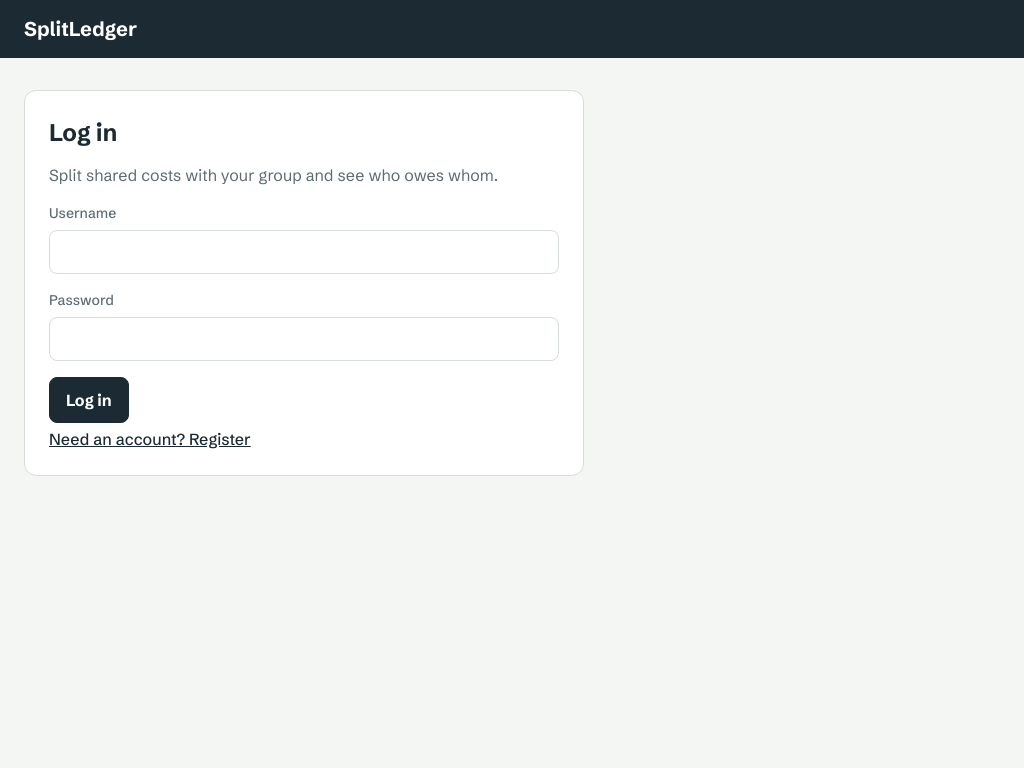
Test case: LoginPage › shows the validation message on 422
Click the button "Need an account? Register" at x=150, y=439, box [49,427,251,451]
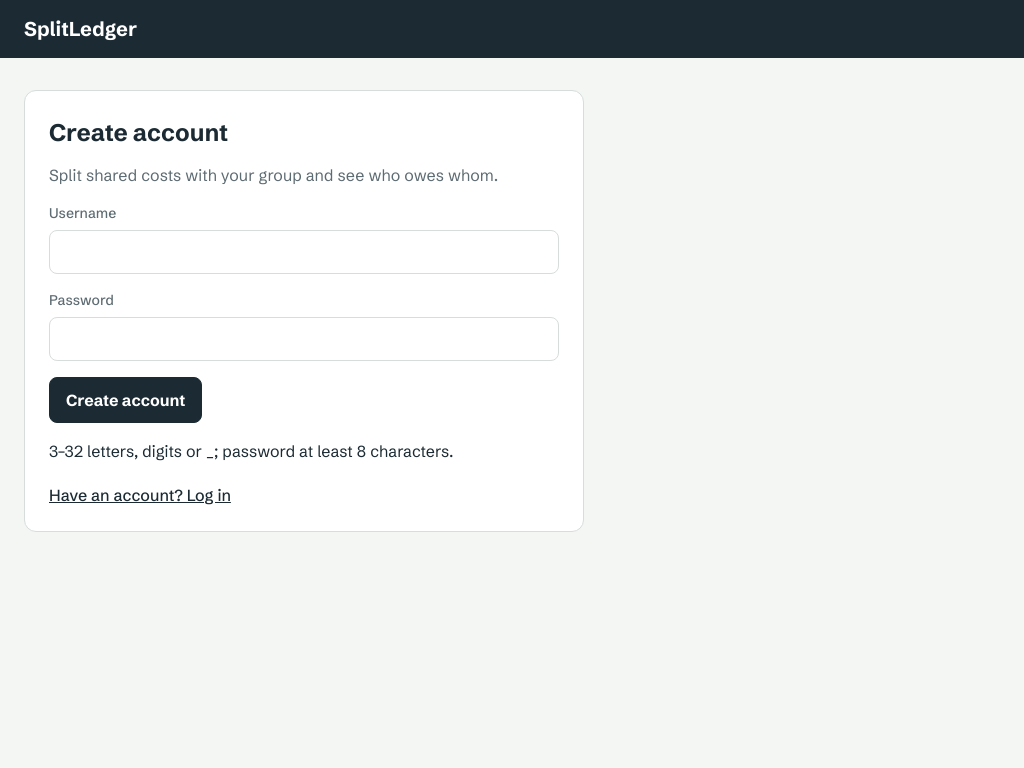
Type "alice" into the field labelled "Username" at x=304, y=252, box [49,230,559,274]
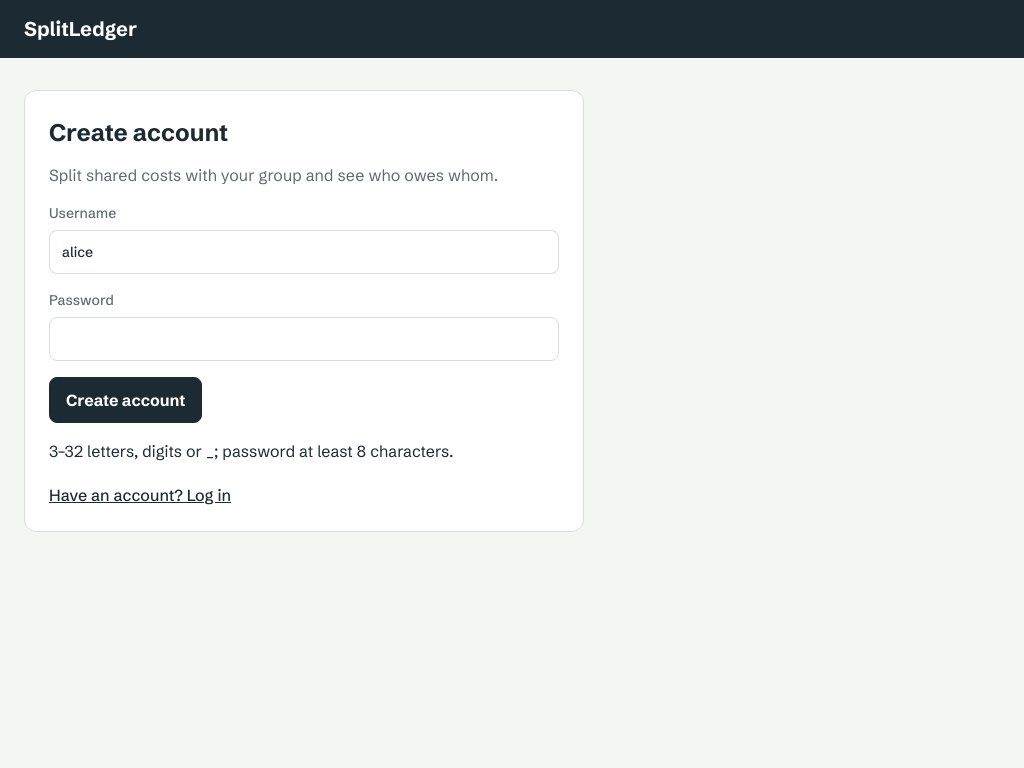
Type "pw123456" into the password field labelled "Password" at x=304, y=339, box [49,317,559,361]
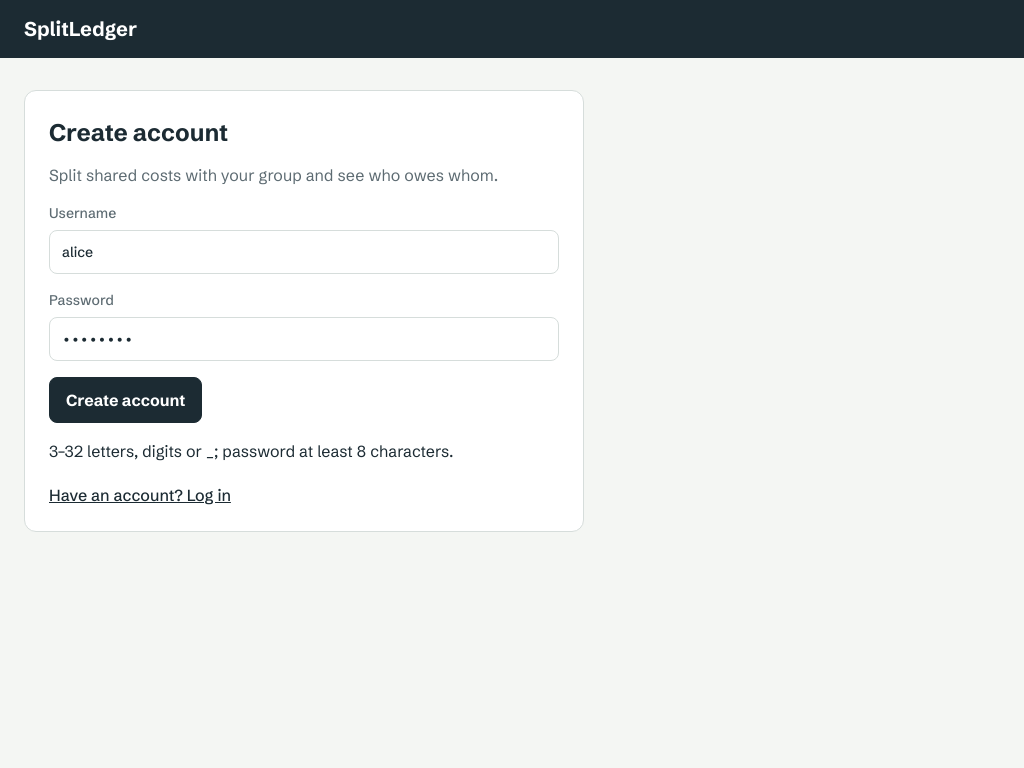
Click the button "Create account" at x=126, y=400, box [49,377,202,423]
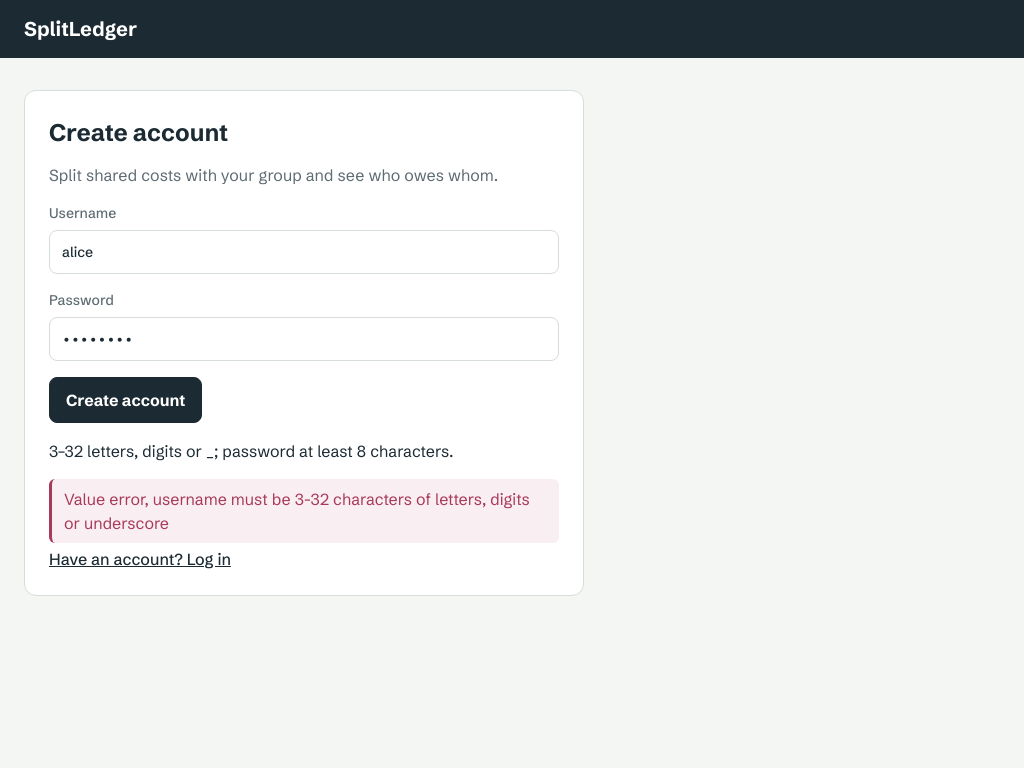
Result: the message reads "Value error, username must be 3-32 characters of letters, digits or underscore" at [64,489,530,533]
